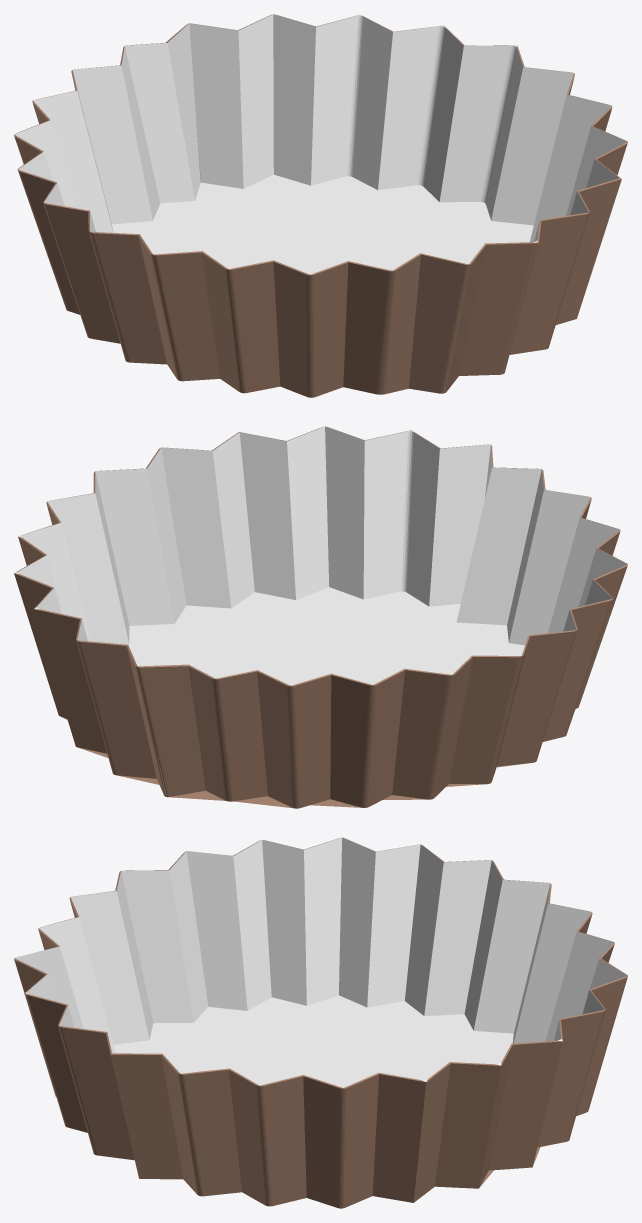
Rendered from kertas cetakan.fbx.
The picture shows the model from 3 angles, top to bottom: view 1: azimuth 30°, elevation 25°; view 2: azimuth 150°, elevation 25°; view 3: azimuth 270°, elevation 25°; orthographic projection. The views are drawn at different scales.
Parts seen in each view (by area): view 1: Circle; view 2: Circle; view 3: Circle.
Part boxes in pixels (box(x1,y1,x2,y2)): Circle: box(14, 14, 627, 397); Circle: box(14, 426, 627, 808); Circle: box(14, 837, 627, 1208).
Bounding box in the file's own units: 286 × 74.22 × 296.
Materials: 1 (1 with a texture image).
